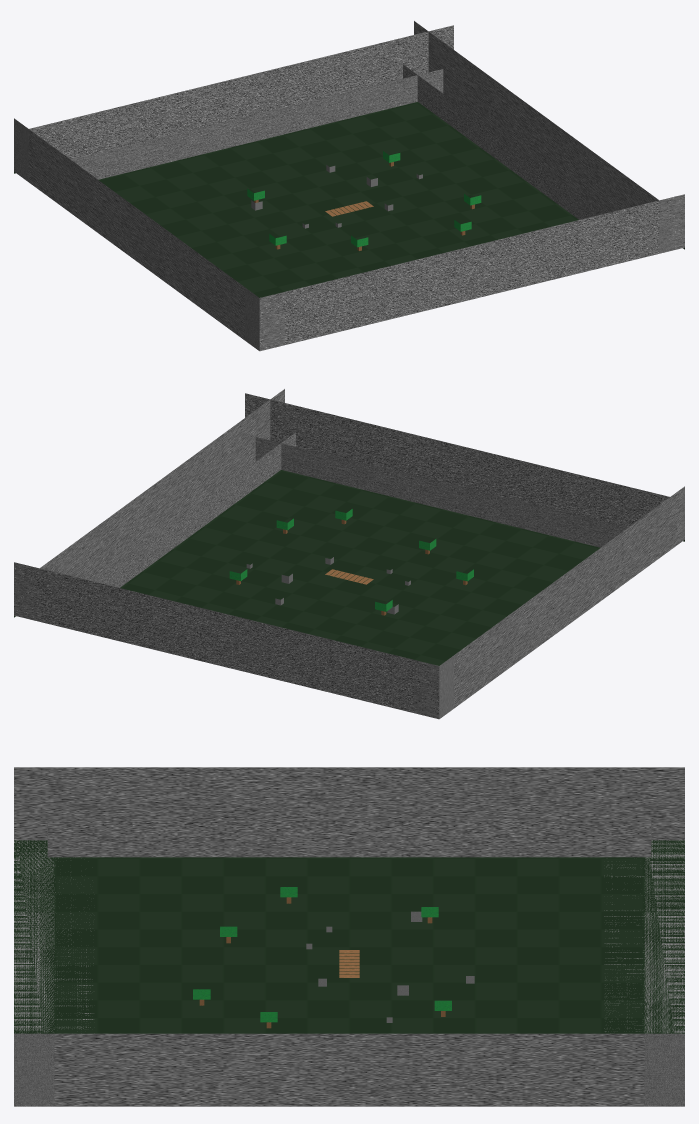
Rendered from Stage1.gltf.
3 views of the same model, one above another, from view 1: azimuth 30°, elevation 25°; view 2: azimuth 150°, elevation 25°; view 3: azimuth 270°, elevation 25° (orthographic). The views are drawn at different scales.
Visible parts, largest first — view 1: Ground, Wall_S_top, Wall_N_top, Wall_W_top, Wall_E_top, Wall_N_low, Wall_E_low; view 2: Ground, Wall_N_top, Wall_S_top, Wall_W_top, Wall_E_top, Wall_S_low, Wall_E_low; view 3: Ground, Wall_E_top, Wall_W_top, Wall_W_low, Wall_N_top, Wall_S_top.
Boxes of the visible parts, left/top/right/bottom form: Ground: left=14, top=102, right=684, bottom=297; Wall_S_top: left=245, top=194, right=684, bottom=351; Wall_N_top: left=14, top=25, right=453, bottom=181; Wall_W_top: left=14, top=118, right=284, bottom=350; Wall_E_top: left=414, top=21, right=684, bottom=253; Wall_N_low: left=71, top=69, right=443, bottom=179; Wall_E_low: left=403, top=64, right=605, bottom=219; Ground: left=14, top=470, right=684, bottom=665; Wall_N_top: left=14, top=562, right=453, bottom=718; Wall_S_top: left=245, top=393, right=684, bottom=541; Wall_W_top: left=414, top=487, right=684, bottom=718; Wall_E_top: left=14, top=389, right=284, bottom=620; Wall_S_low: left=255, top=437, right=627, bottom=547; Wall_E_low: left=93, top=432, right=295, bottom=587; Ground: left=14, top=840, right=684, bottom=1033; Wall_E_top: left=14, top=1033, right=684, bottom=1106; Wall_W_top: left=14, top=767, right=684, bottom=840; Wall_W_low: left=47, top=820, right=651, bottom=857; Wall_N_top: left=644, top=840, right=684, bottom=1106; Wall_S_top: left=14, top=840, right=54, bottom=1106.
Size of the model in its own units: 100 by 12.5 by 100.
